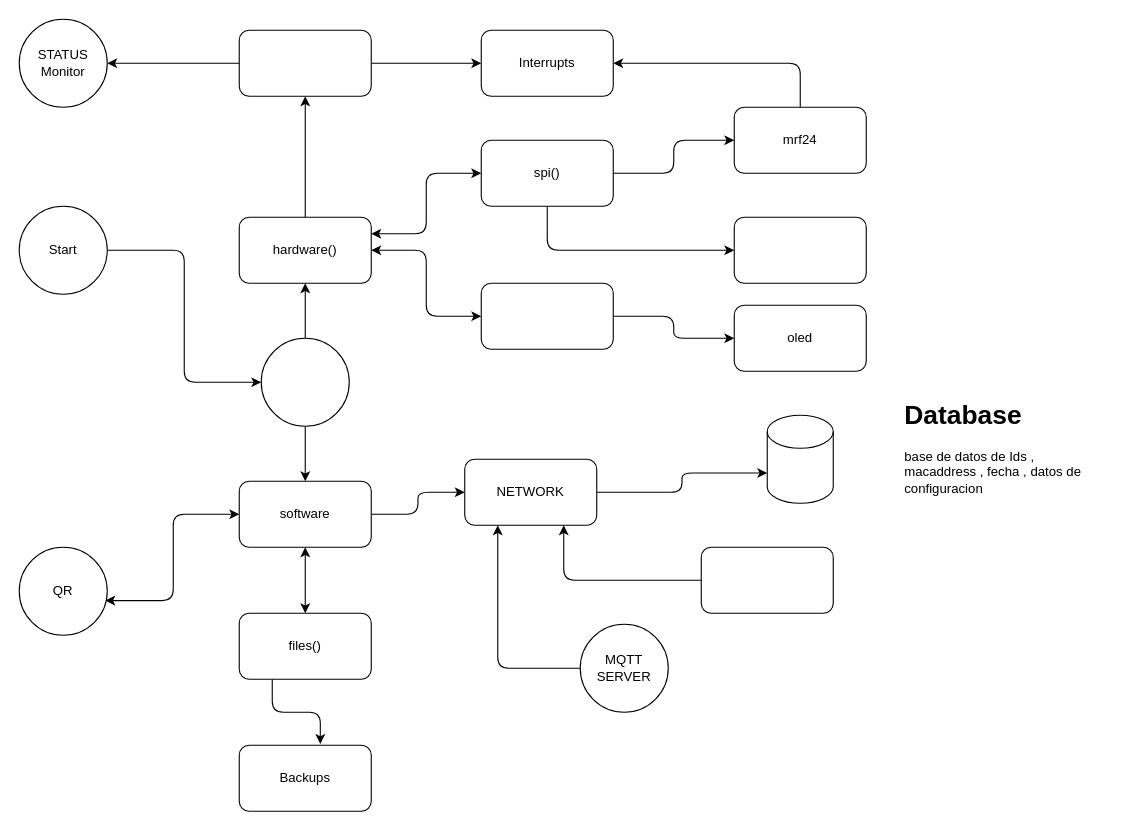
This 1128x831 diagram has some shape labels left out. Each missing label, with the box of its shape:
DB: (766, 414, 833, 503)
epaper: (733, 216, 866, 283)
Extern Server & Clients: (700, 546, 833, 613)
GPIO: (238, 29, 371, 96)
i2c(): (480, 282, 613, 349)
init(): (260, 337, 349, 426)
